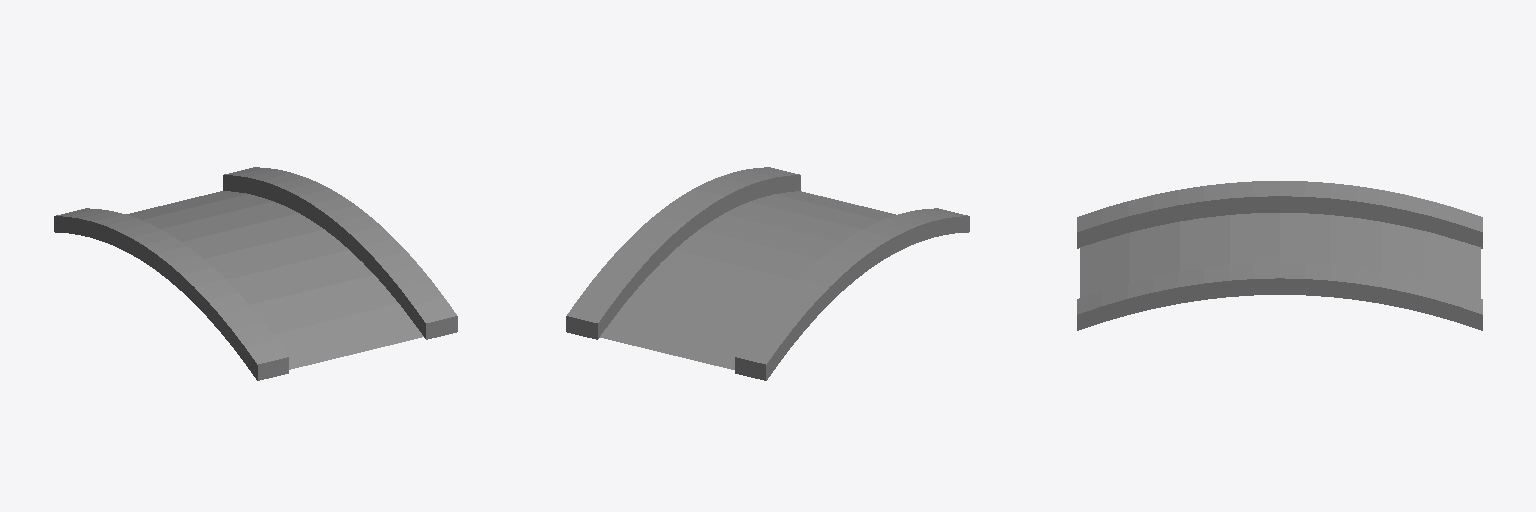
Rendered from puente.obj.
The picture shows the model from 3 angles: view 1: azimuth 30°, elevation 25°; view 2: azimuth 150°, elevation 25°; view 3: azimuth 270°, elevation 25°; orthographic projection.
Visible parts, largest first — view 1: Plane001, Box002, Box001; view 2: Plane001, Box002, Box001; view 3: Plane001, Box001, Box002.
Boxes of the visible parts, x1=… form: Plane001: x1=126, y1=191, x2=423, y2=369; Box002: x1=54, y1=208, x2=288, y2=380; Box001: x1=223, y1=167, x2=457, y2=339; Plane001: x1=600, y1=191, x2=895, y2=369; Box002: x1=735, y1=208, x2=969, y2=380; Box001: x1=566, y1=167, x2=800, y2=339; Plane001: x1=1080, y1=213, x2=1480, y2=297; Box001: x1=1077, y1=263, x2=1482, y2=330; Box002: x1=1077, y1=181, x2=1482, y2=248.
Size of the model in its own units: 85.32 by 21.53 by 150.